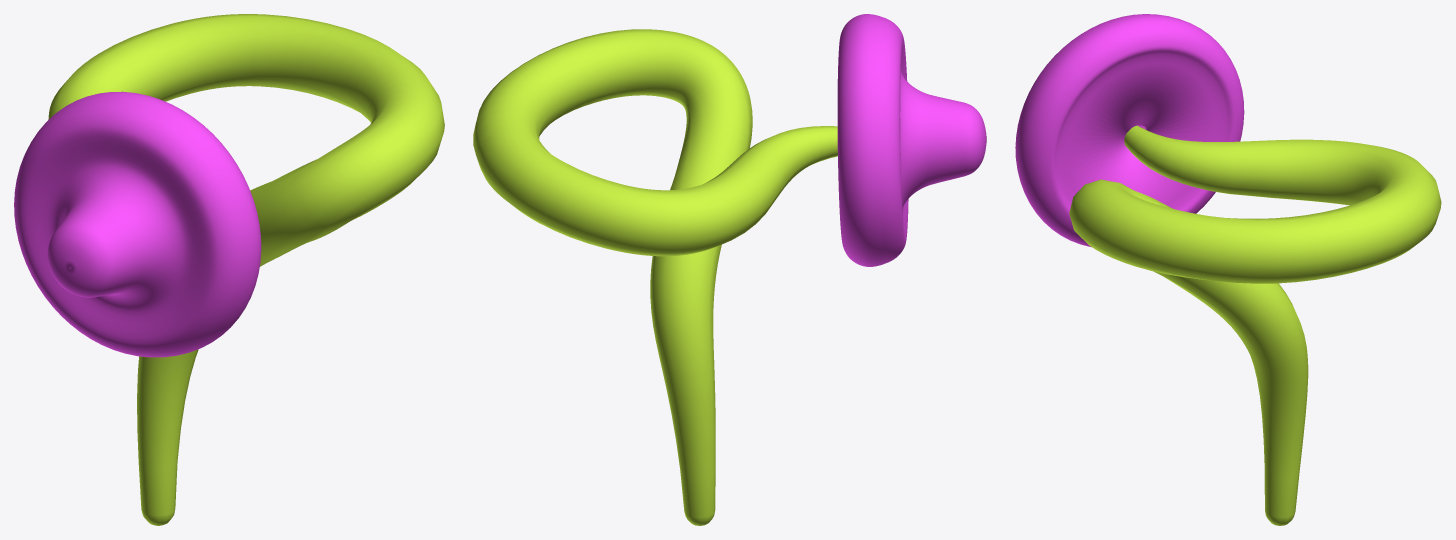
The model's file is shroom_11.glb.
3 views of the same model, side by side, from view 1: azimuth 30°, elevation 25°; view 2: azimuth 150°, elevation 25°; view 3: azimuth 270°, elevation 25° (orthographic). The views are drawn at different scales.
Parts seen in each view (by area): view 1: s.0017; view 2: s.0017; view 3: s.0017.
Part boxes in pixels (x1,y1,x2,y2): s.0017: (14, 14, 444, 525); s.0017: (473, 14, 986, 525); s.0017: (1015, 14, 1441, 525).
Size of the model in its own units: 1.6 by 1.77 by 1.48.
